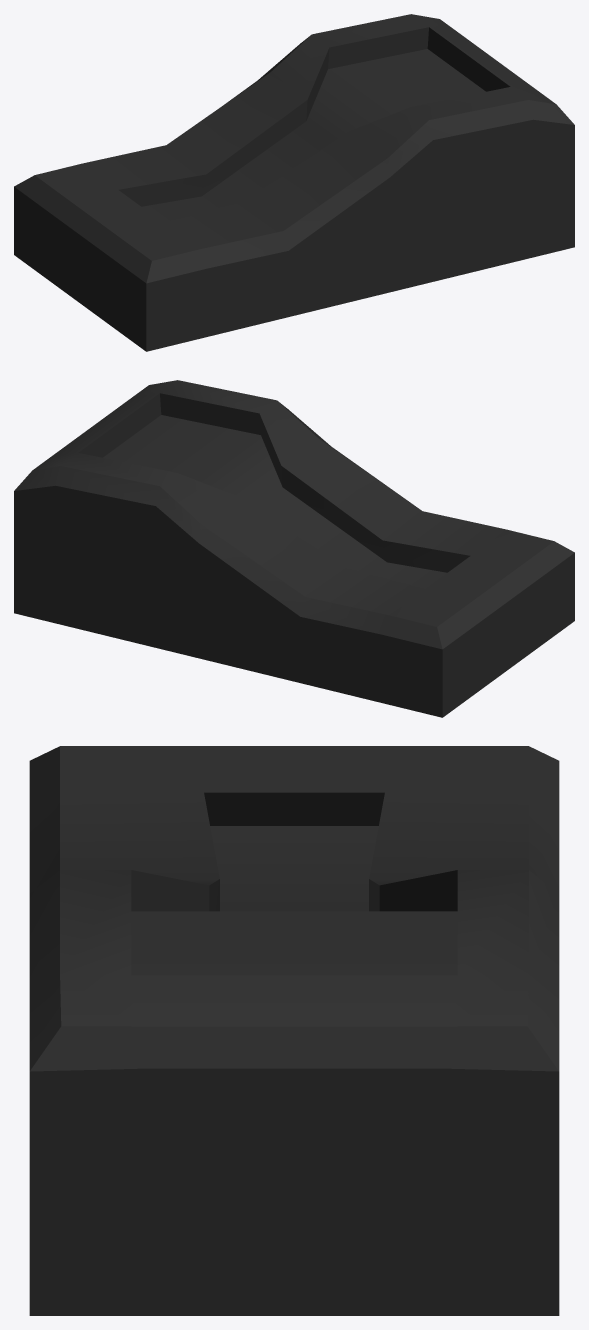
File: scannerholder.fbx
The picture shows the model from 3 angles, top to bottom: view 1: azimuth 30°, elevation 25°; view 2: azimuth 150°, elevation 25°; view 3: azimuth 270°, elevation 25°; orthographic projection. The views are drawn at different scales.
Visible parts, largest first — view 1: pCube56; view 2: pCube56; view 3: pCube56.
Boxes of the visible parts, x1,y1,x2,y2 form: pCube56: [14, 14, 574, 351]; pCube56: [14, 380, 574, 717]; pCube56: [29, 746, 559, 1315].
Bounding box in the file's own units: 22.57 × 7.82 × 12.08.
Materials: 1 (1 with a texture image).
